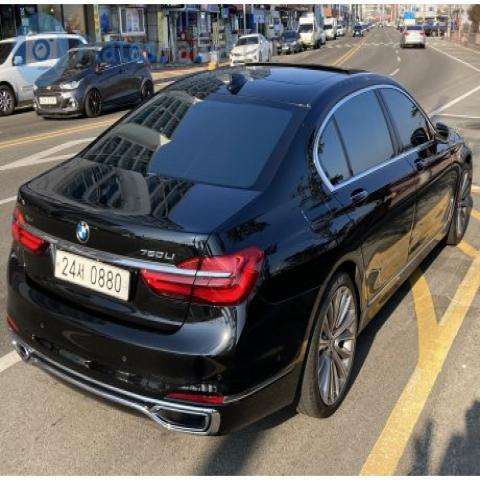LP: (47, 238, 142, 309)
